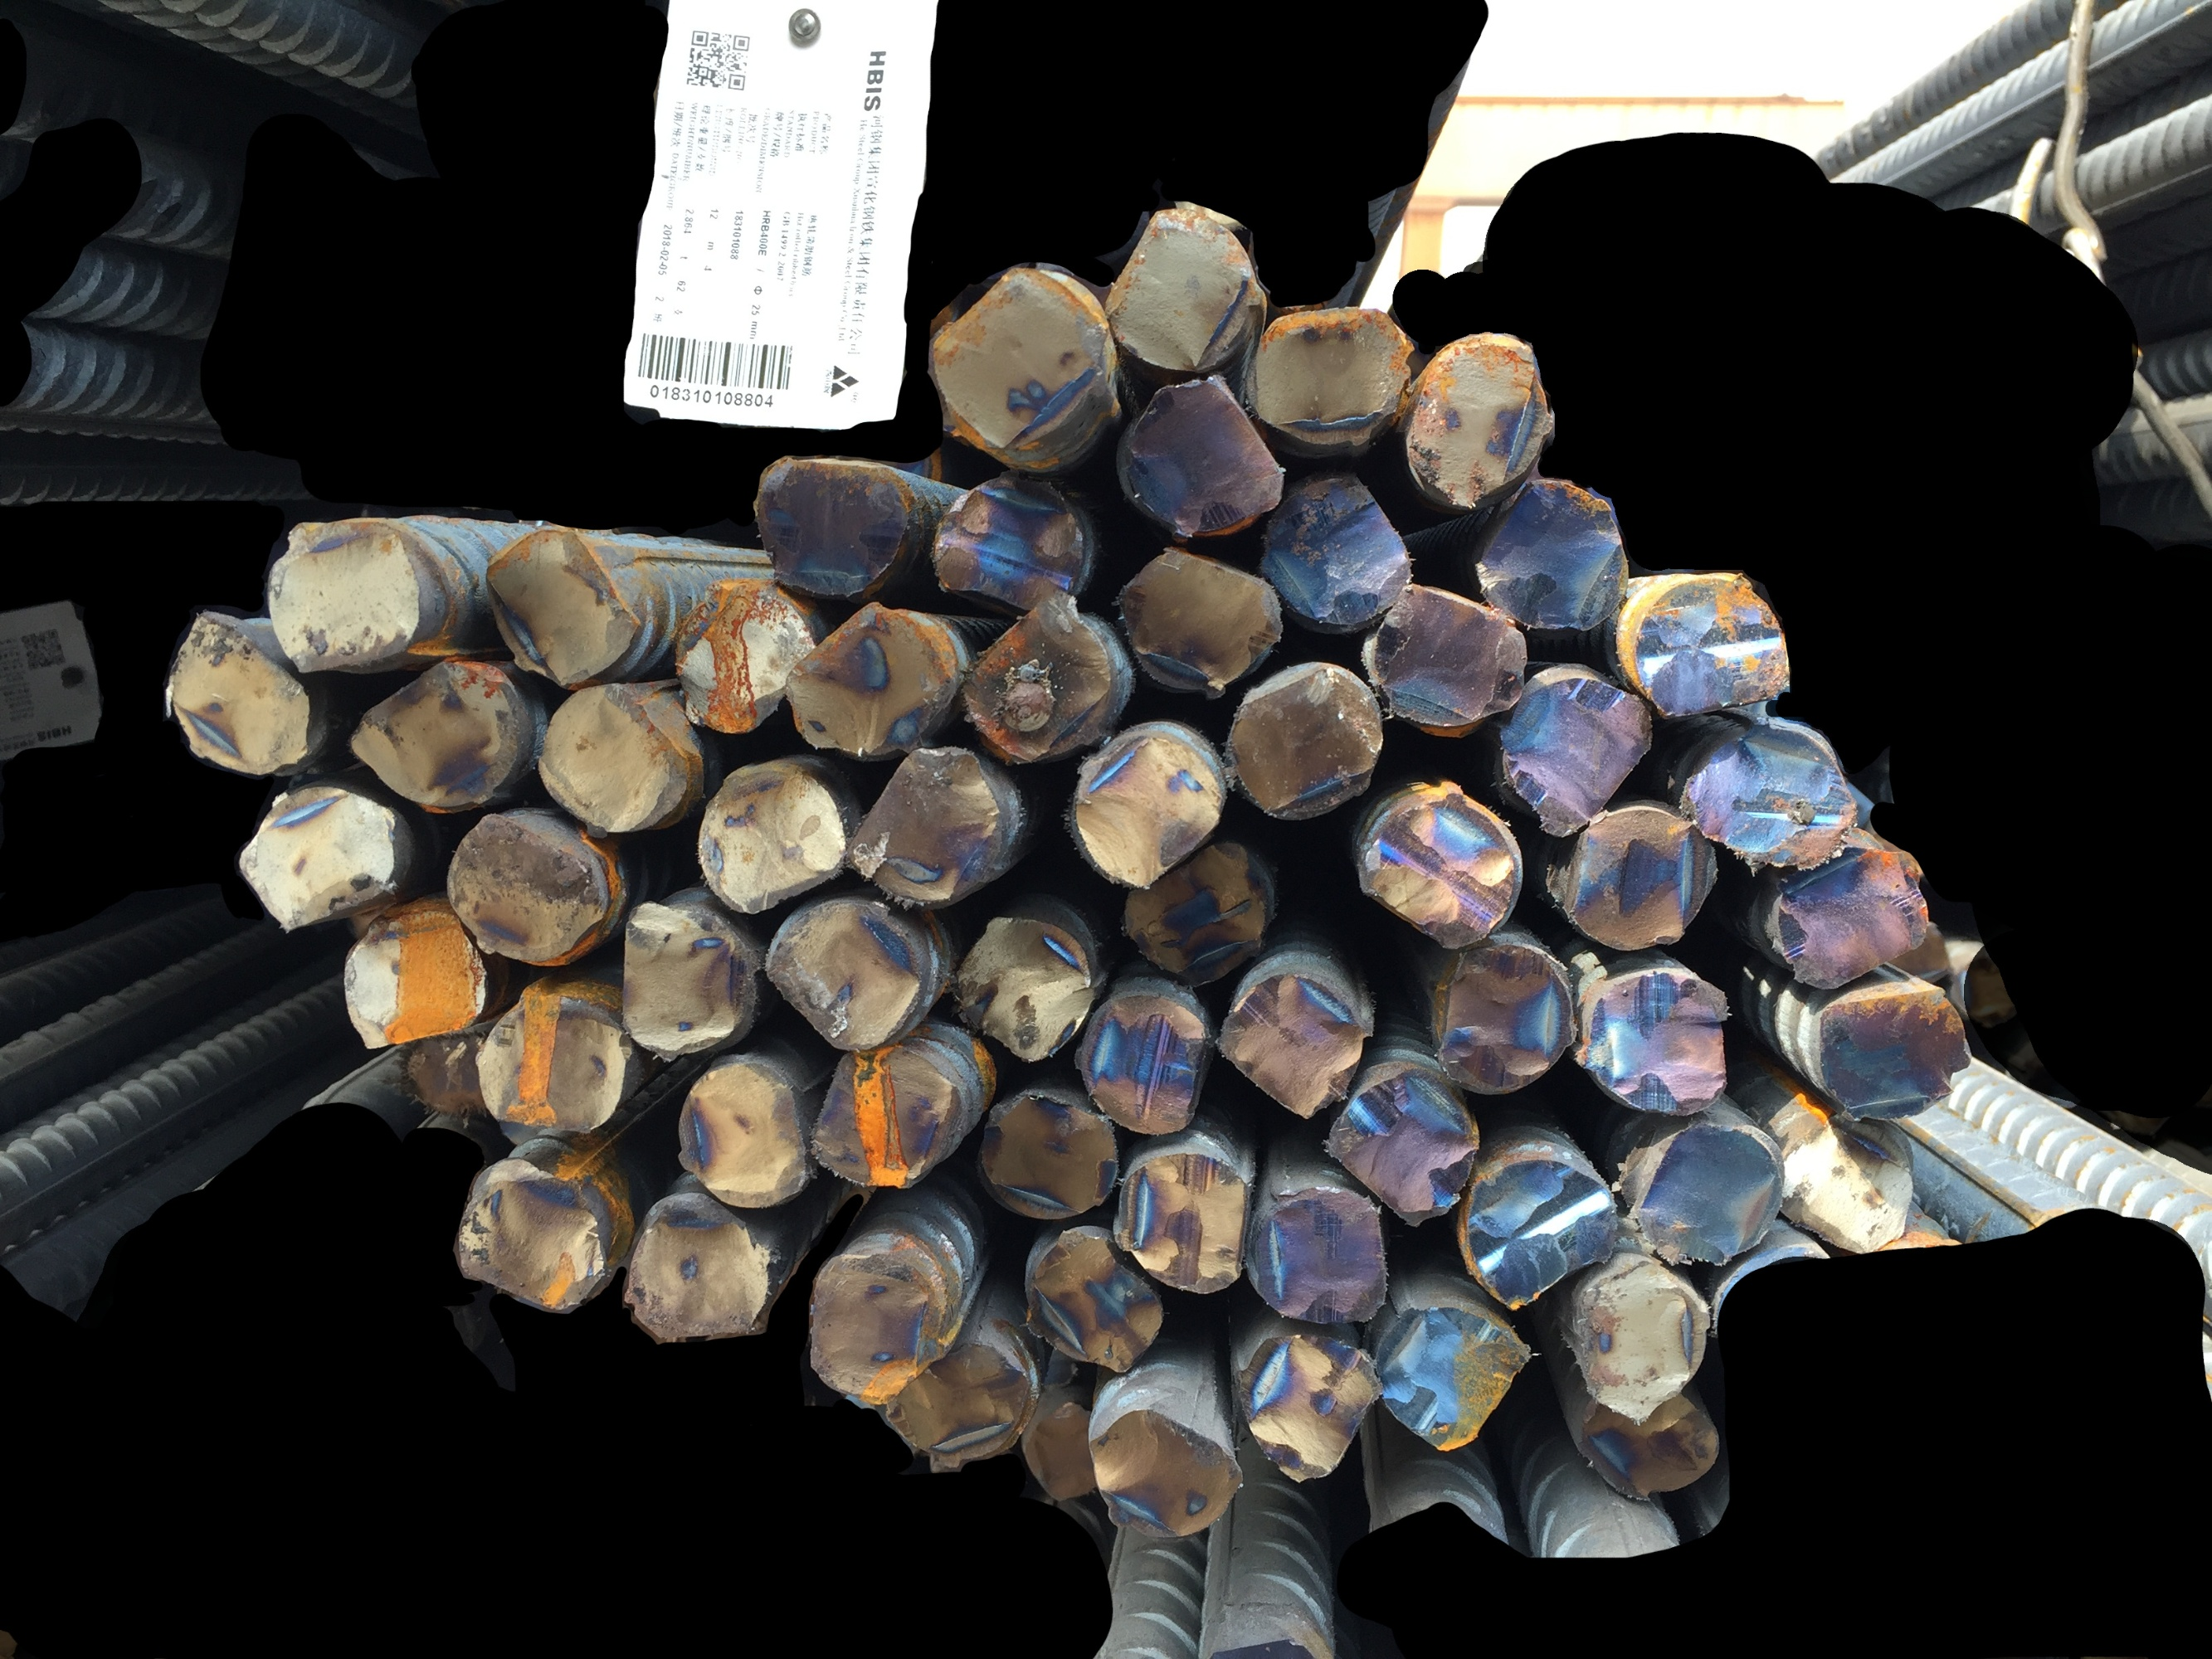rebar: (924, 263, 1117, 476), (1105, 368, 1293, 549), (1098, 530, 1293, 704), (1670, 709, 1869, 880), (1208, 650, 1394, 829), (948, 582, 1123, 774), (216, 769, 410, 939), (1060, 711, 1234, 897), (432, 807, 624, 974), (1347, 784, 1534, 955), (777, 592, 957, 767), (908, 460, 1105, 619), (831, 739, 1008, 915), (1314, 1061, 1494, 1234), (340, 652, 530, 814), (1544, 795, 1729, 960), (1098, 204, 1272, 378), (1227, 1319, 1400, 1495), (254, 507, 427, 681), (1449, 1148, 1626, 1317), (1492, 667, 1659, 845), (683, 749, 856, 920), (1755, 838, 1940, 997), (1403, 326, 1558, 514), (443, 1161, 622, 1323), (523, 673, 692, 842), (1625, 563, 1801, 725), (1469, 467, 1637, 636), (1623, 1110, 1795, 1274), (1370, 1297, 1544, 1459), (757, 894, 933, 1054), (157, 603, 316, 781), (1358, 577, 1539, 732), (481, 521, 643, 690), (1257, 462, 1417, 633), (1569, 962, 1736, 1124), (1426, 934, 1584, 1105), (662, 570, 823, 737), (1562, 1258, 1719, 1429), (1243, 307, 1417, 458), (1210, 965, 1372, 1127), (1804, 983, 1977, 1134), (791, 1251, 950, 1415), (328, 897, 493, 1054), (748, 451, 917, 605), (469, 997, 640, 1148), (1079, 1399, 1253, 1547), (800, 1042, 964, 1199), (612, 1201, 781, 1351), (1103, 1141, 1260, 1302), (1238, 1178, 1400, 1333), (1016, 1216, 1171, 1378), (945, 908, 1100, 1068), (666, 1054, 816, 1218), (608, 894, 746, 1068), (1065, 983, 1213, 1143), (967, 1080, 1130, 1227), (873, 1333, 1037, 1478), (1774, 1105, 1926, 1260), (1119, 842, 1278, 988), (1567, 1378, 1733, 1506), (378, 1021, 519, 1127), (1018, 1396, 1121, 1513)
